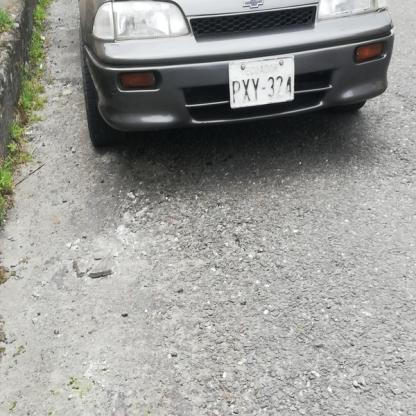Placa: (224, 57, 299, 115)
